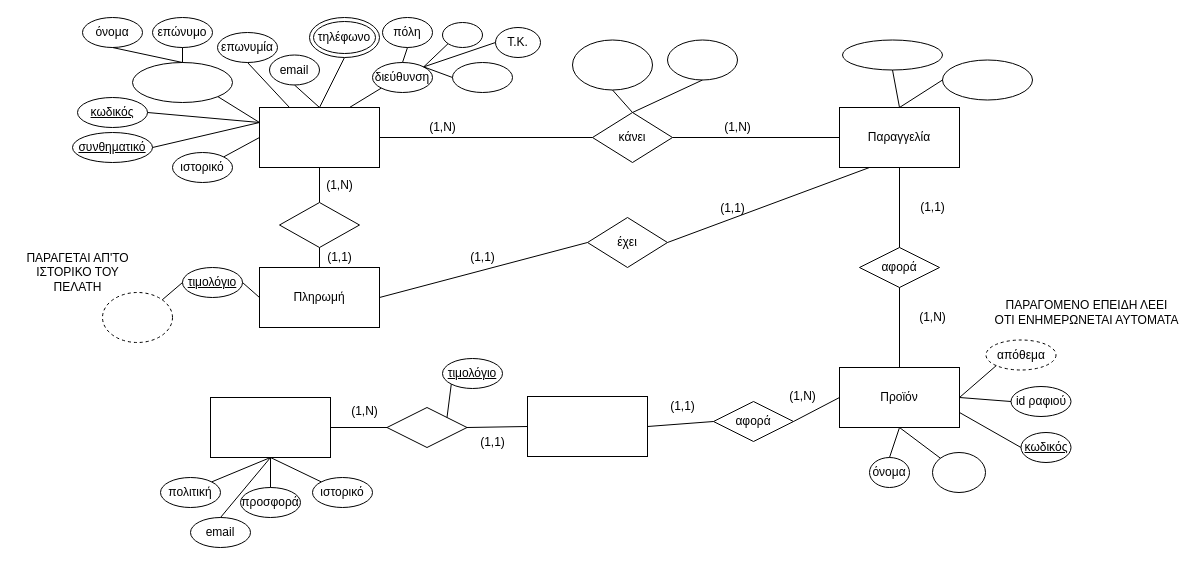
Some shapes in this 1203 by 565 pixel diagram are drawn without their labels. The box of each missing label's shape, as (x1, y1, x2, y2) in pixels:
id παραγγελίας: (942, 59, 1032, 100)
αναλαμβάνει: (278, 202, 360, 248)
αποστέλλει: (386, 406, 467, 448)
αριθμός: (452, 62, 512, 92)
ημερομηνία: (666, 39, 738, 80)
οδός: (442, 22, 482, 48)
ονοματεπώνυμο υπευθύνου: (132, 62, 232, 102)
Παραγγελία Φαρμακαποθήκης: (526, 396, 648, 456)
Πελάτης: (258, 106, 380, 168)
ποσότητα: (932, 452, 986, 492)
προθεσμία εξόφλησης: (102, 292, 172, 342)
Προμηθευτής: (210, 396, 330, 458)
χαρακτηρισμός: (842, 39, 942, 70)
ώρα καταχώρησης: (572, 39, 652, 90)
